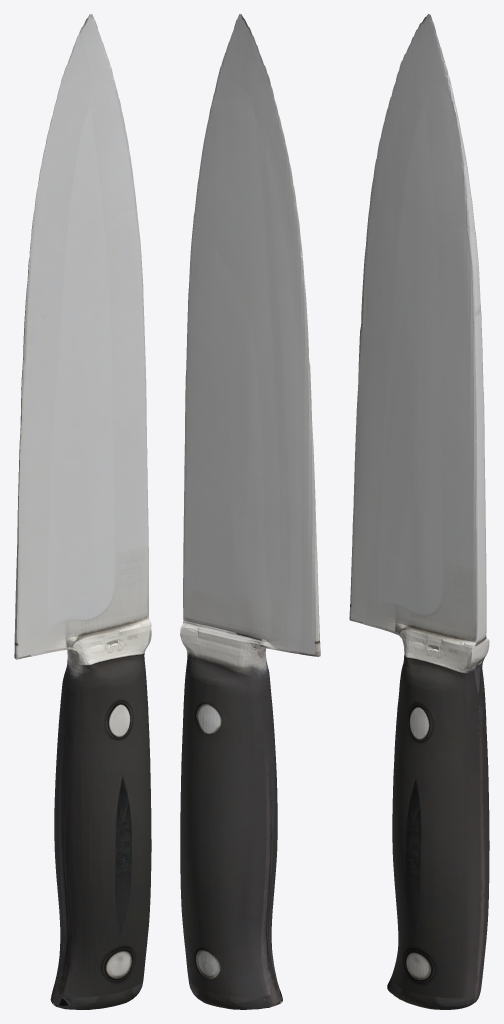
The model's file is kitchen_knife_0704094631_texture.fbx.
3 renders of one model, left to right at view 1: azimuth 30°, elevation 25°; view 2: azimuth 150°, elevation 25°; view 3: azimuth 330°, elevation 25°, orthographic.
Parts seen in each view (by area): view 1: temp; view 2: temp; view 3: temp.
Boxes of the visible parts, x1=… form: temp: x1=14, y1=14, x2=151, y2=1009; temp: x1=180, y1=14, x2=320, y2=1009; temp: x1=349, y1=14, x2=489, y2=1009.
Size of the model in its own units: 28.12 by 199 by 18.43.
1 material, 1 textured.
